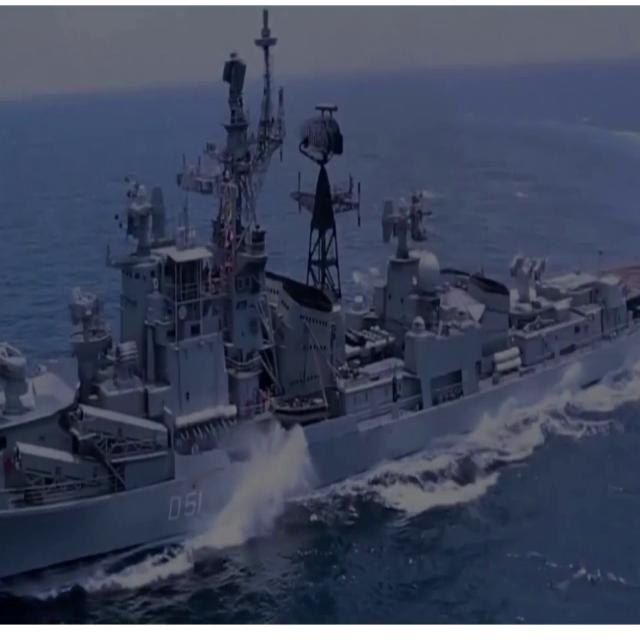OCR: (161, 478, 212, 530)
